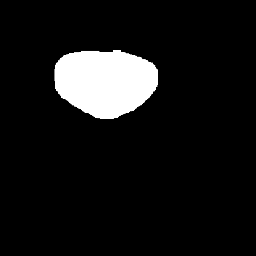mass: (40, 37, 183, 114)
